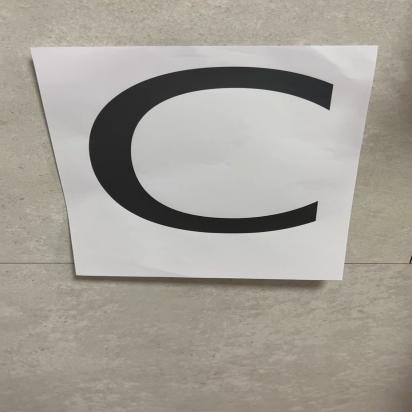seat: (50, 56, 344, 287)
